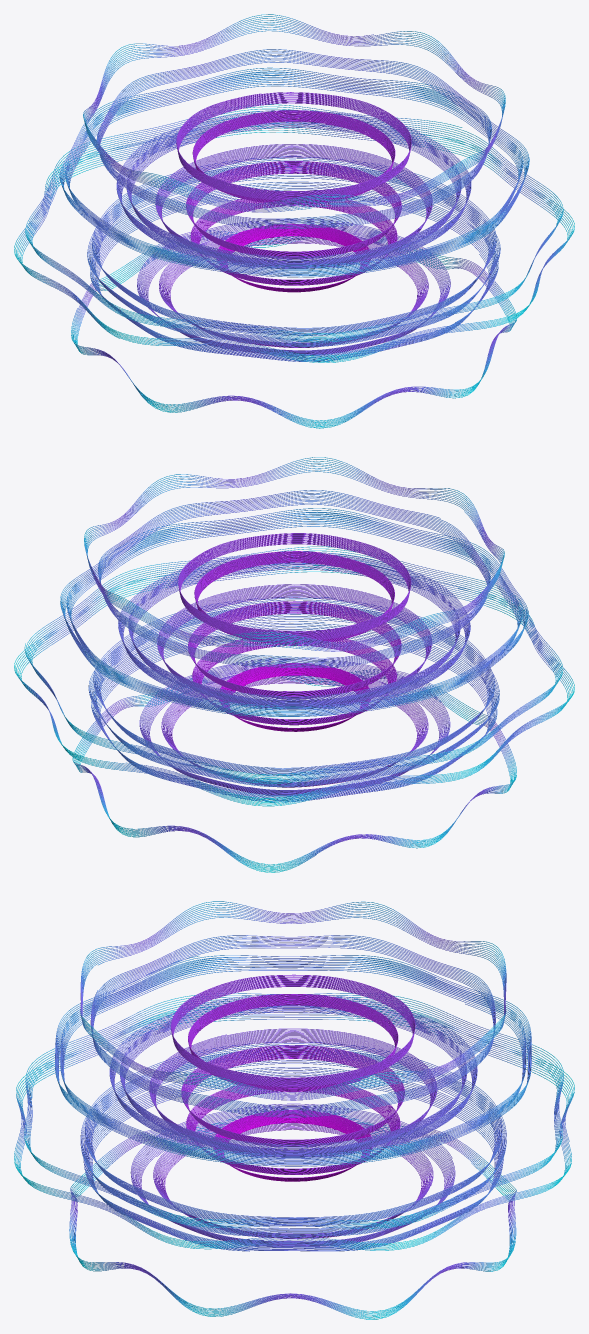
The model's file is coil_1_field_lines.gltf.
3 renders of one model, top to bottom at view 1: azimuth 30°, elevation 25°; view 2: azimuth 150°, elevation 25°; view 3: azimuth 270°, elevation 25°, orthographic. The views are drawn at different scales.
Visible parts, largest first — view 1: Renderer Node; view 2: Renderer Node; view 3: Renderer Node.
Part boxes in pixels (x1,y1,x2,y2): Renderer Node: [14, 14, 574, 428]; Renderer Node: [14, 457, 574, 872]; Renderer Node: [14, 901, 574, 1319].
Size of the model in its own units: 1.07 by 0.5255 by 1.07.
Materials: 1 (1 with a texture image).
